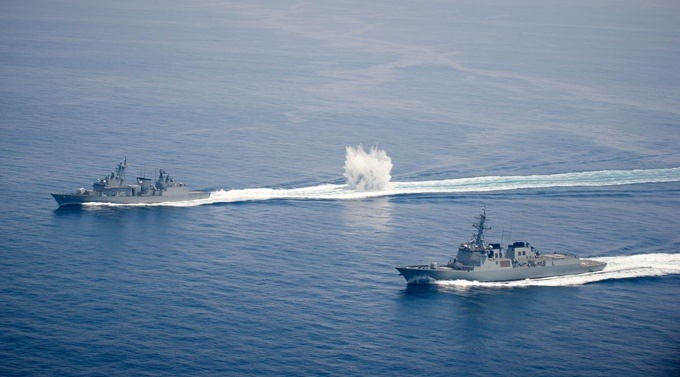warship: (398, 218, 607, 289), (50, 152, 212, 209)
